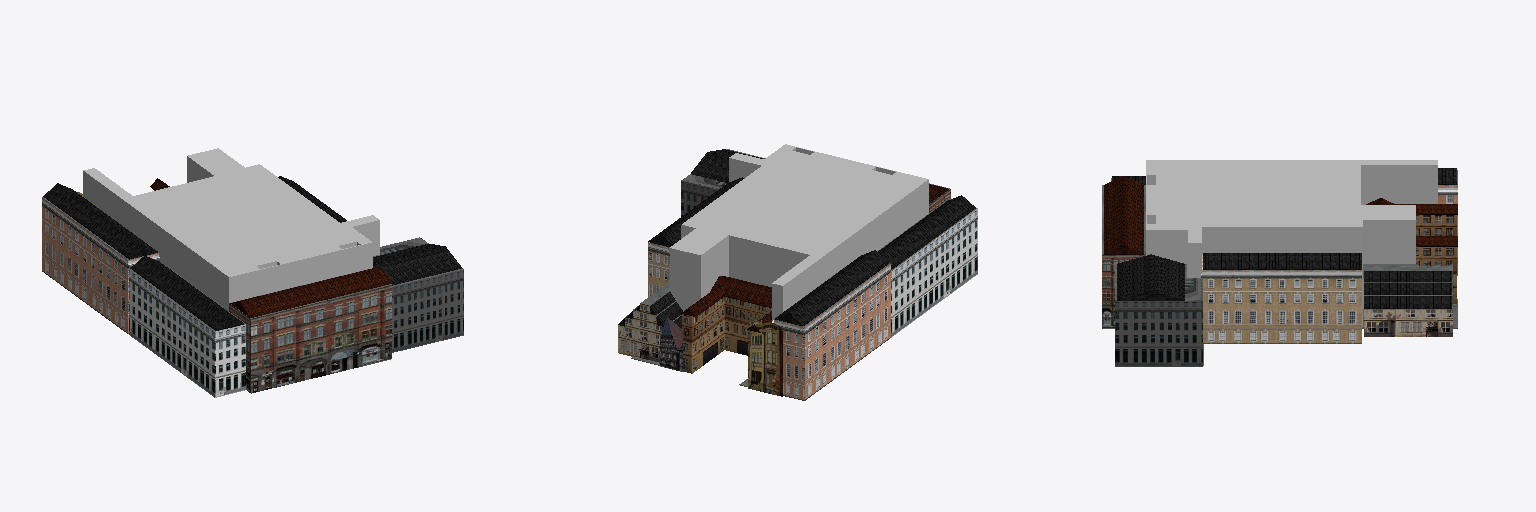
The picture shows the model from 3 angles: view 1: azimuth 30°, elevation 25°; view 2: azimuth 150°, elevation 25°; view 3: azimuth 270°, elevation 25°; orthographic projection.
Parts seen in each view (by area): view 1: marketSquare, marketSquareCollisionBox; view 2: marketSquare, marketSquareCollisionBox; view 3: marketSquare, marketSquareCollisionBox.
Boxes of the visible parts, x1=… form: marketSquare: x1=42, y1=176, x2=463, y2=397; marketSquareCollisionBox: x1=83, y1=148, x2=379, y2=310; marketSquare: x1=618, y1=149, x2=977, y2=400; marketSquareCollisionBox: x1=669, y1=144, x2=928, y2=320; marketSquare: x1=1102, y1=168, x2=1457, y2=366; marketSquareCollisionBox: x1=1146, y1=160, x2=1437, y2=326.
Size of the model in its own units: 4039 by 1557 by 4967.
19 materials, 16 textured.